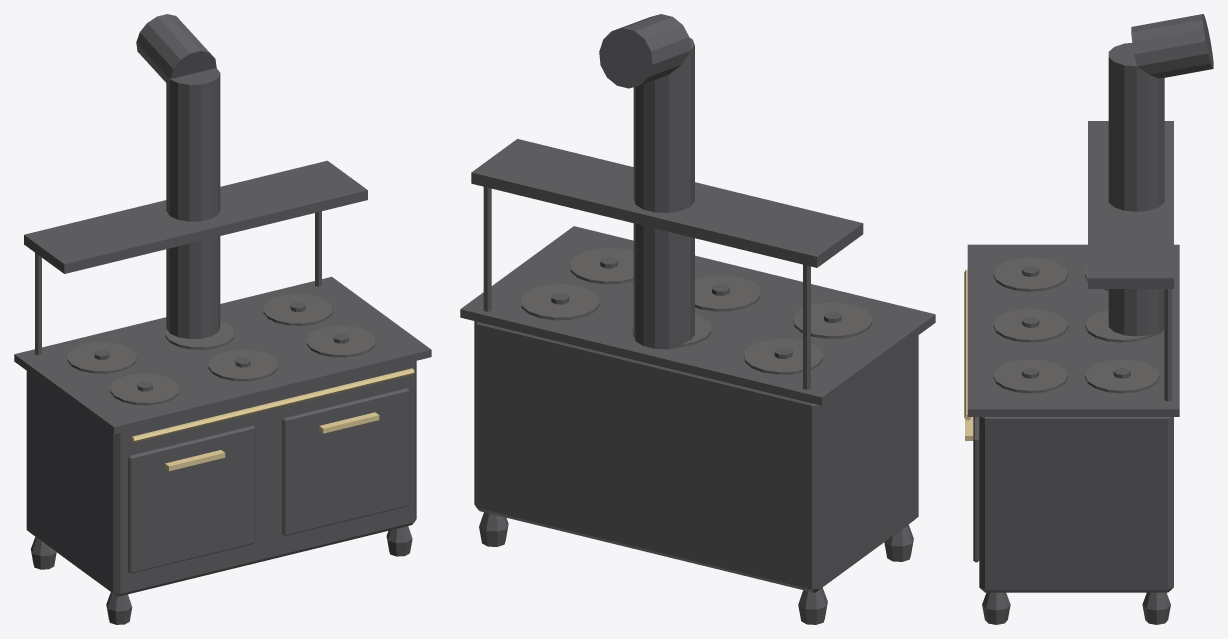
File: kitchen_range.glb
3 renders of one model, left to right at view 1: azimuth 30°, elevation 25°; view 2: azimuth 150°, elevation 25°; view 3: azimuth 270°, elevation 25°, orthographic. The views are drawn at different scales.
Parts seen in each view (by area): view 1: kitchen_range_stove, kitchen_range_dark, kitchen_range_brass; view 2: kitchen_range_stove, kitchen_range_dark; view 3: kitchen_range_stove, kitchen_range_dark, kitchen_range_brass.
Boxes of the visible parts, bbox=[...] form: kitchen_range_stove: bbox=[14, 14, 431, 624]; kitchen_range_dark: bbox=[67, 294, 375, 405]; kitchen_range_brass: bbox=[131, 368, 414, 471]; kitchen_range_stove: bbox=[460, 14, 935, 624]; kitchen_range_dark: bbox=[520, 248, 872, 374]; kitchen_range_stove: bbox=[967, 14, 1213, 624]; kitchen_range_dark: bbox=[993, 257, 1159, 393]; kitchen_range_brass: bbox=[964, 269, 973, 440].
Bounding box in the file's own units: 1.36 × 2.05 × 0.8711.
